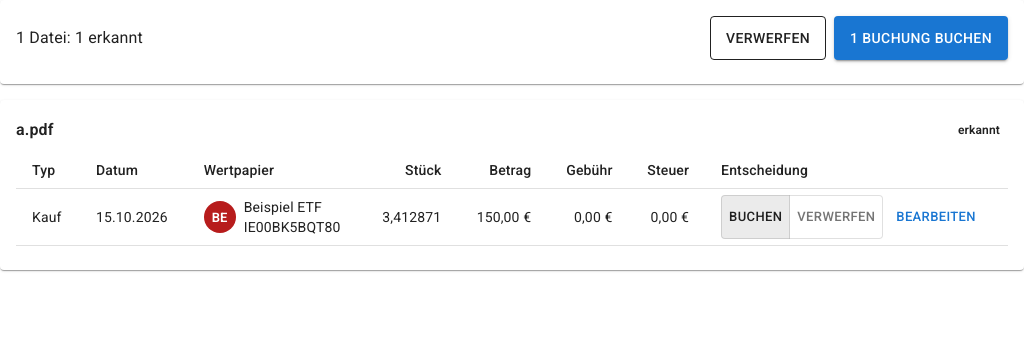
Test: ImportReview › refreshes when a decision finds the batch gone
Click the button "Verwerfen" in the row of "Kauf" at (836, 217), box [789,195,883,239]
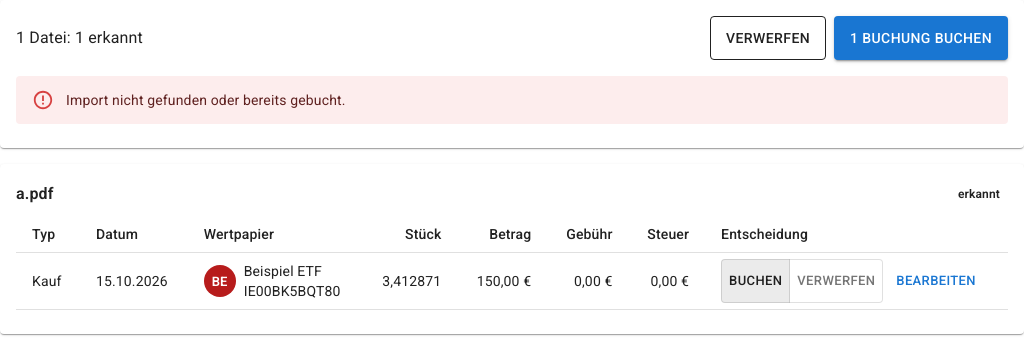
Expected: the message reads "Import nicht gefunden oder bereits gebucht.", [66,92,346,108]
